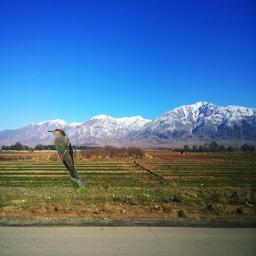Cuckoo: (48, 128, 84, 197)
